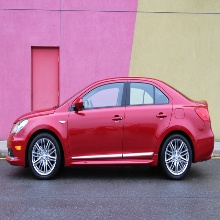no damage: (6, 76, 215, 180)
